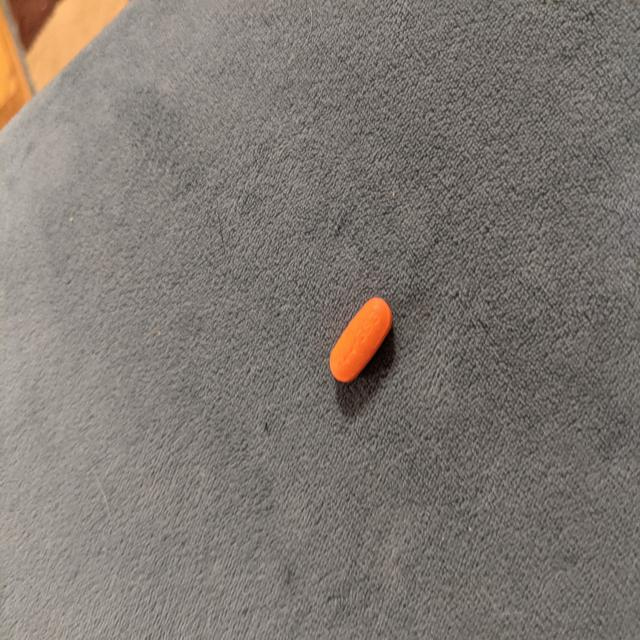non-organic waste: (329, 296, 393, 384)
